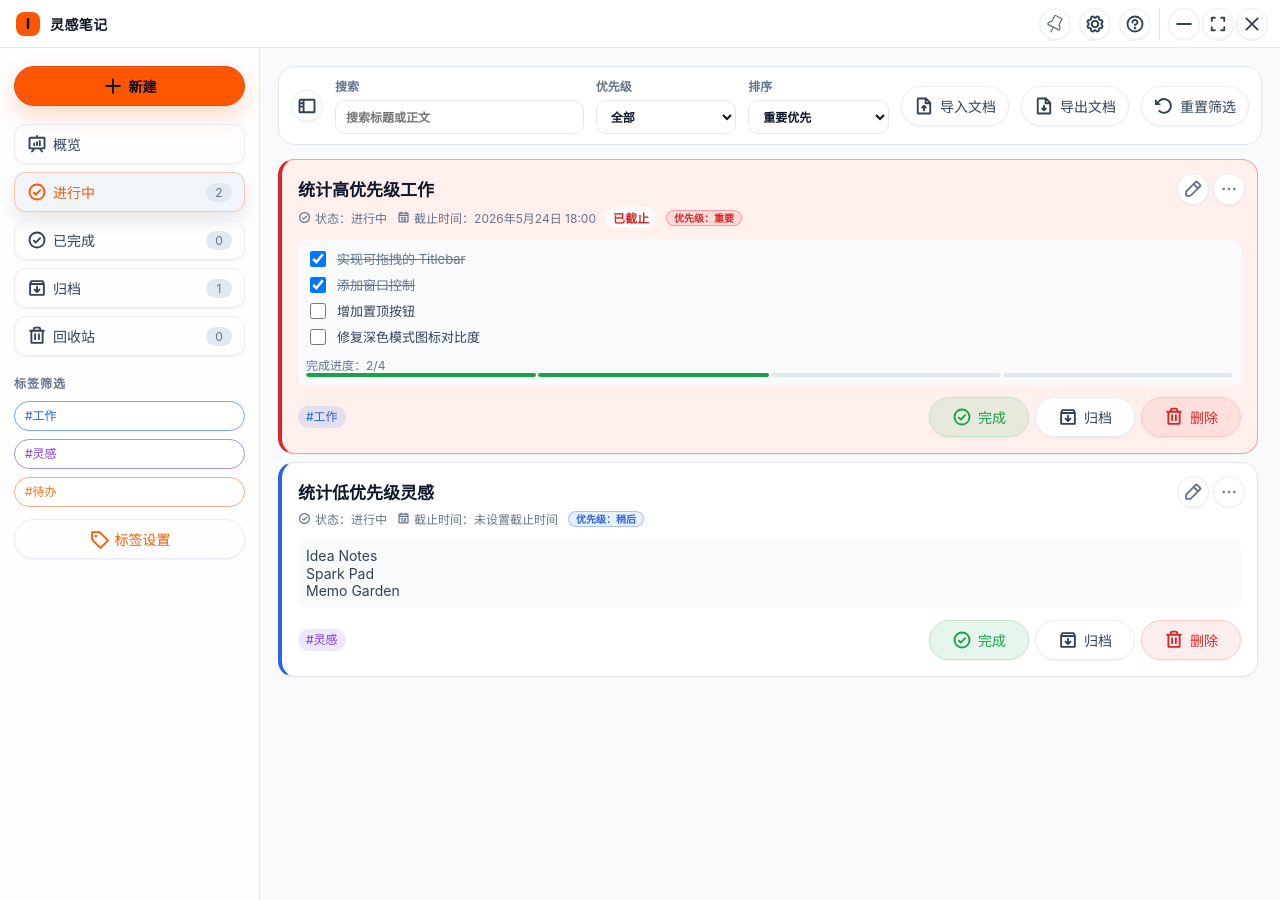
Test case: App overview › 概览统计项可点击反向筛选到对应列表
Click the button "概览" at [130, 144], box [14,124,245,164]
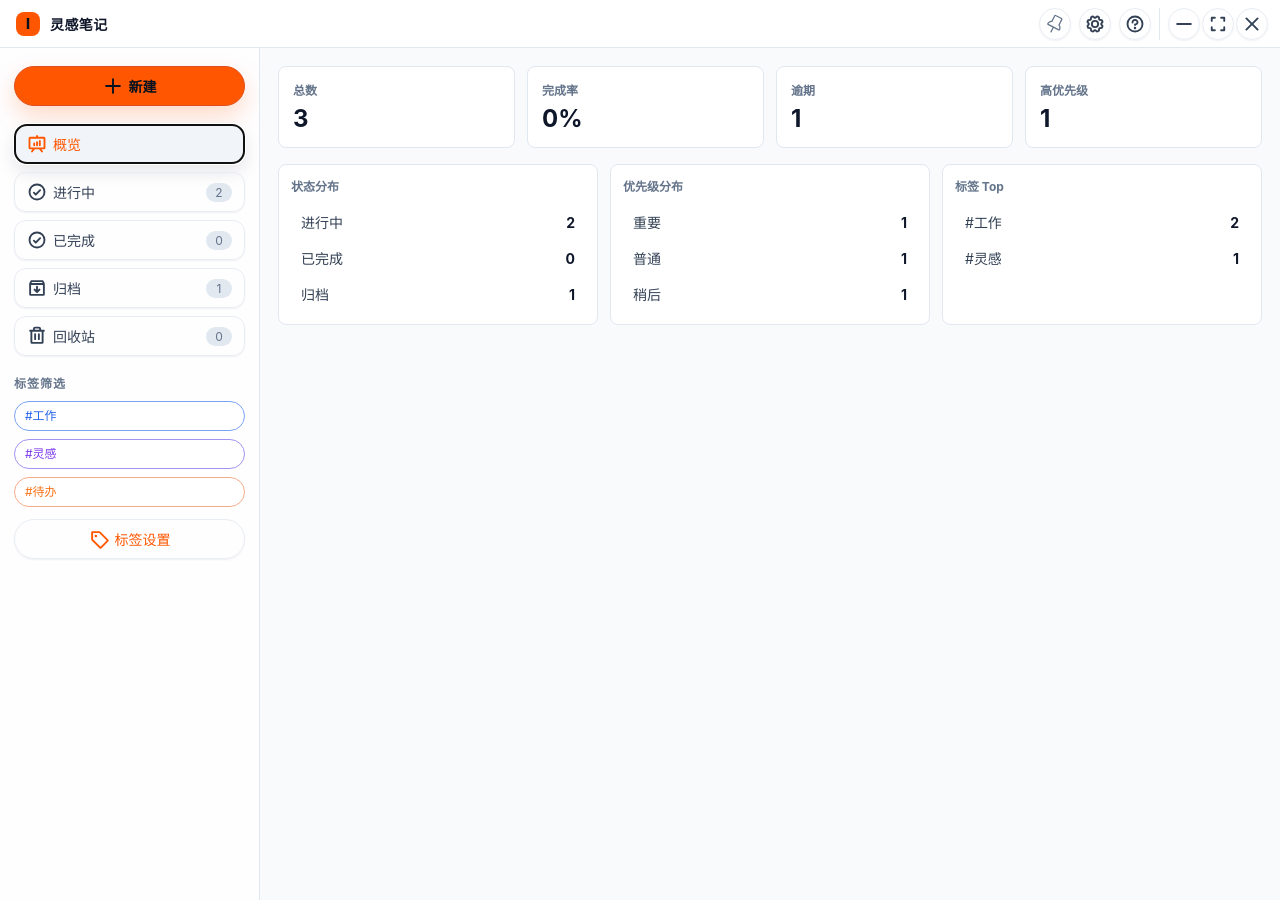
Click the button "归档 1" below "状态分布" at [315, 294], box [291,276,585,312]
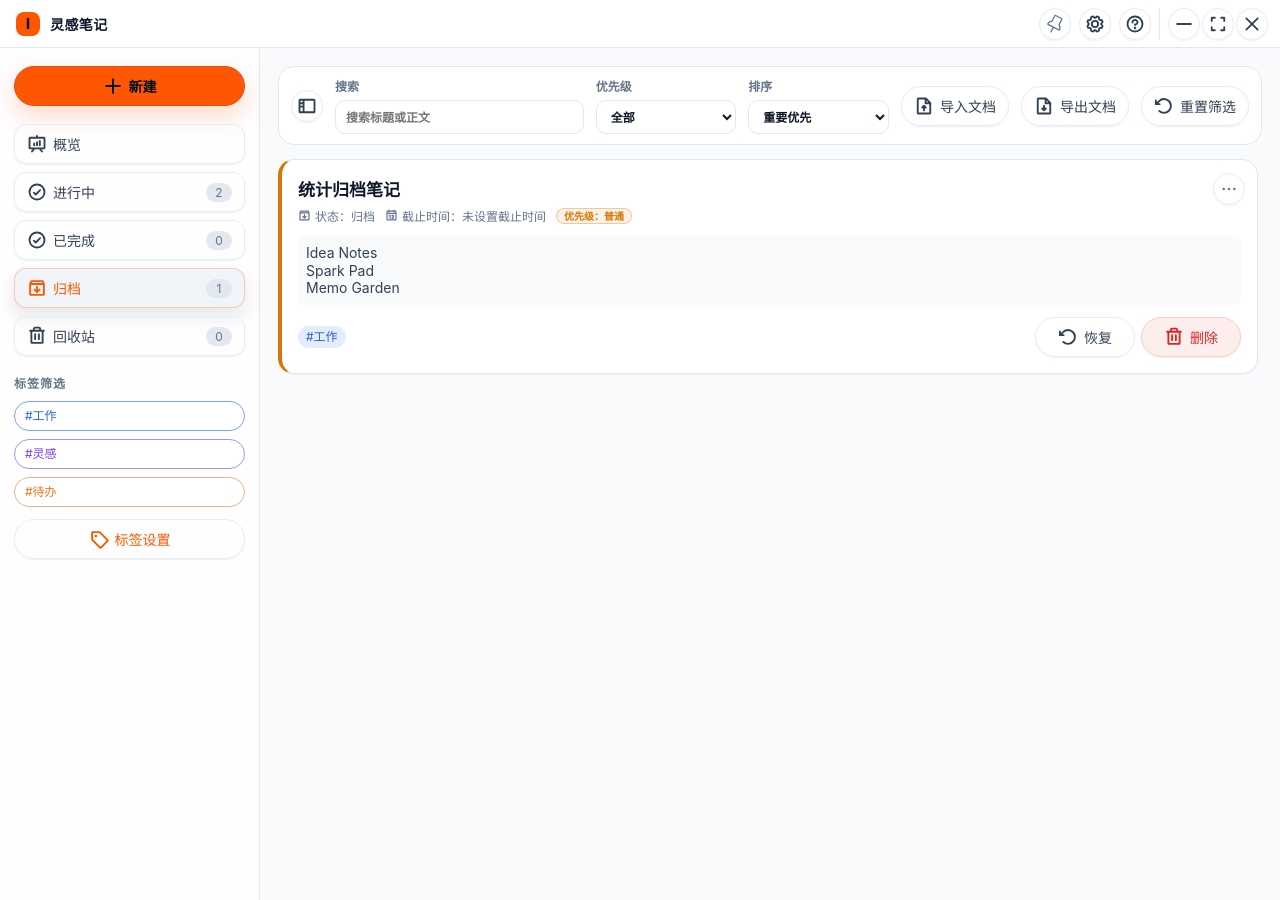
Expected: the button "统计高优先级工作" is not shown
Now the heading "统计归档笔记" is shown, box [298,180,400,200]
Click the button "概览" at [130, 144], box [14,124,245,164]
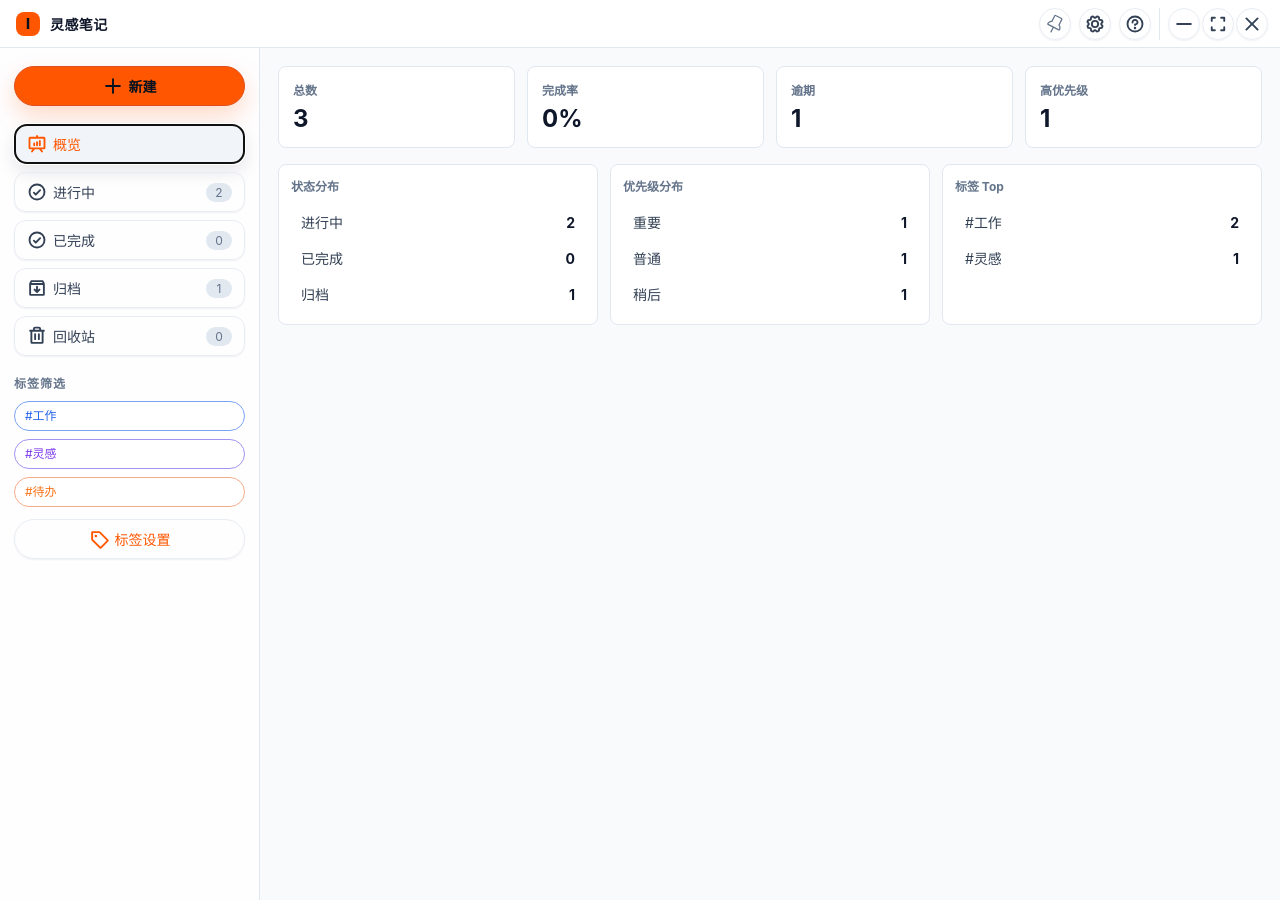
Click the button "重要 1" at [647, 222], box [623,204,917,240]
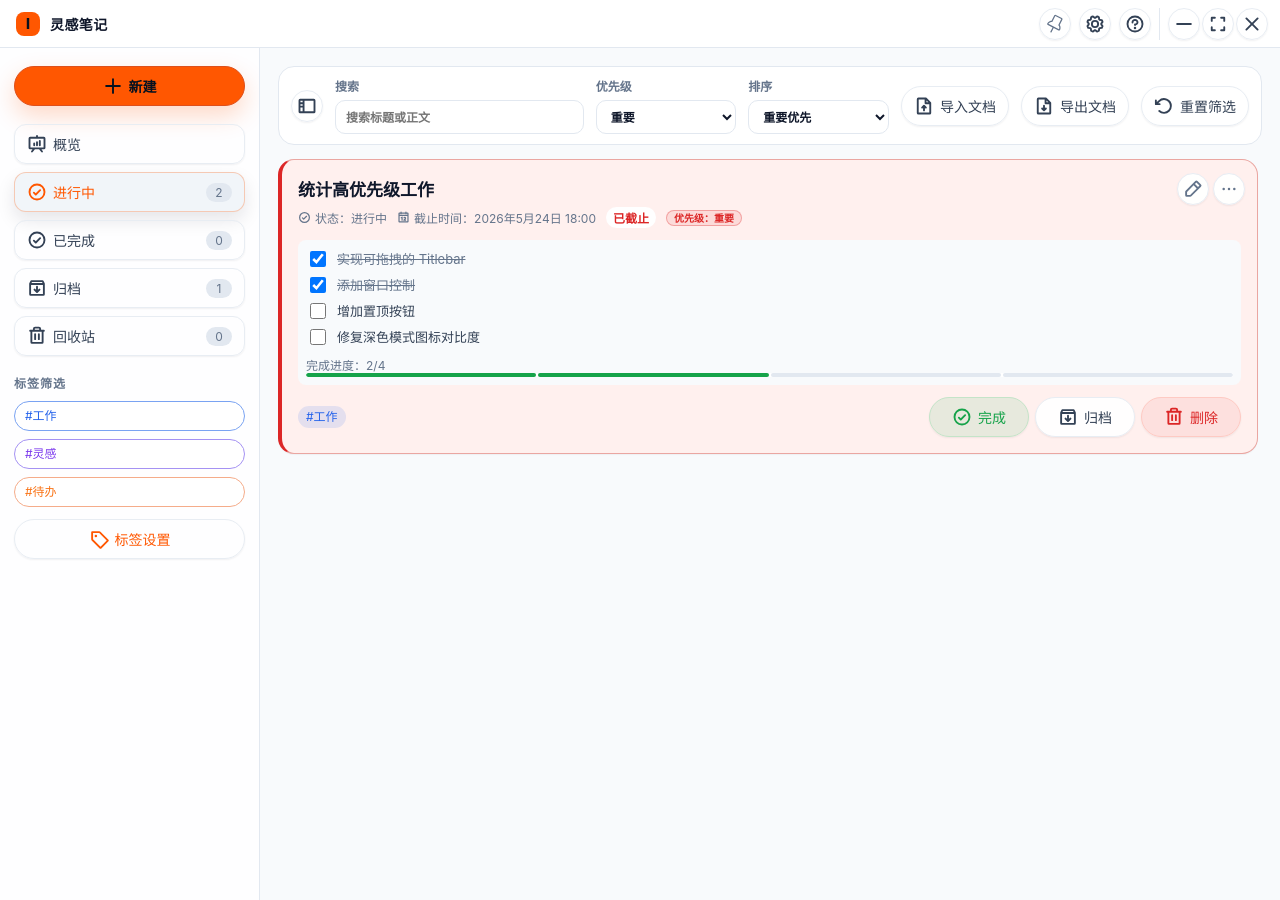
Expected: the button "统计低优先级灵感" is not shown
Now the button "统计高优先级工作" is shown, box [298,176,1181,201]
Click the button "概览" at [130, 144], box [14,124,245,164]
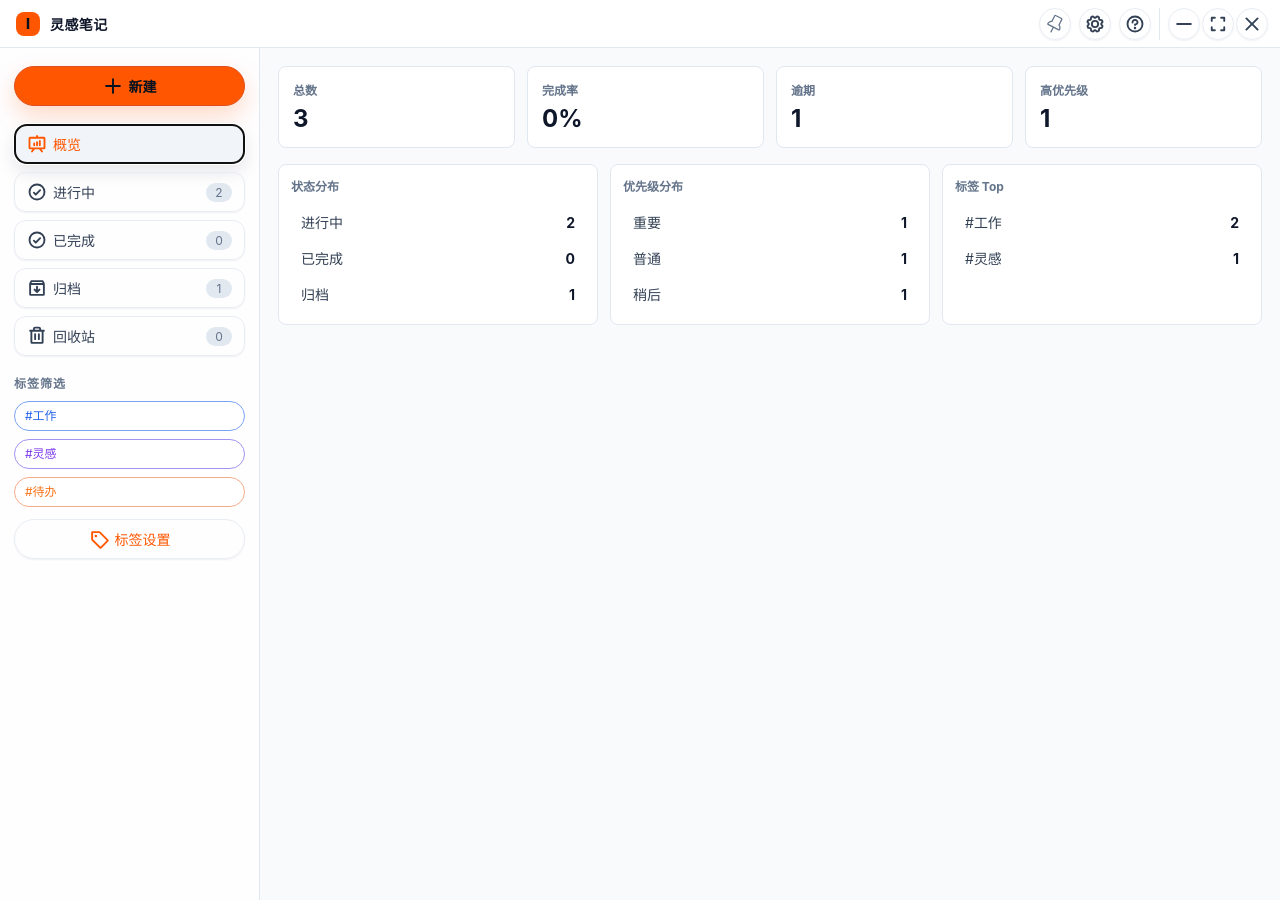
Click the button "#灵感 1" at [969, 258], box [955,240,1249,276]
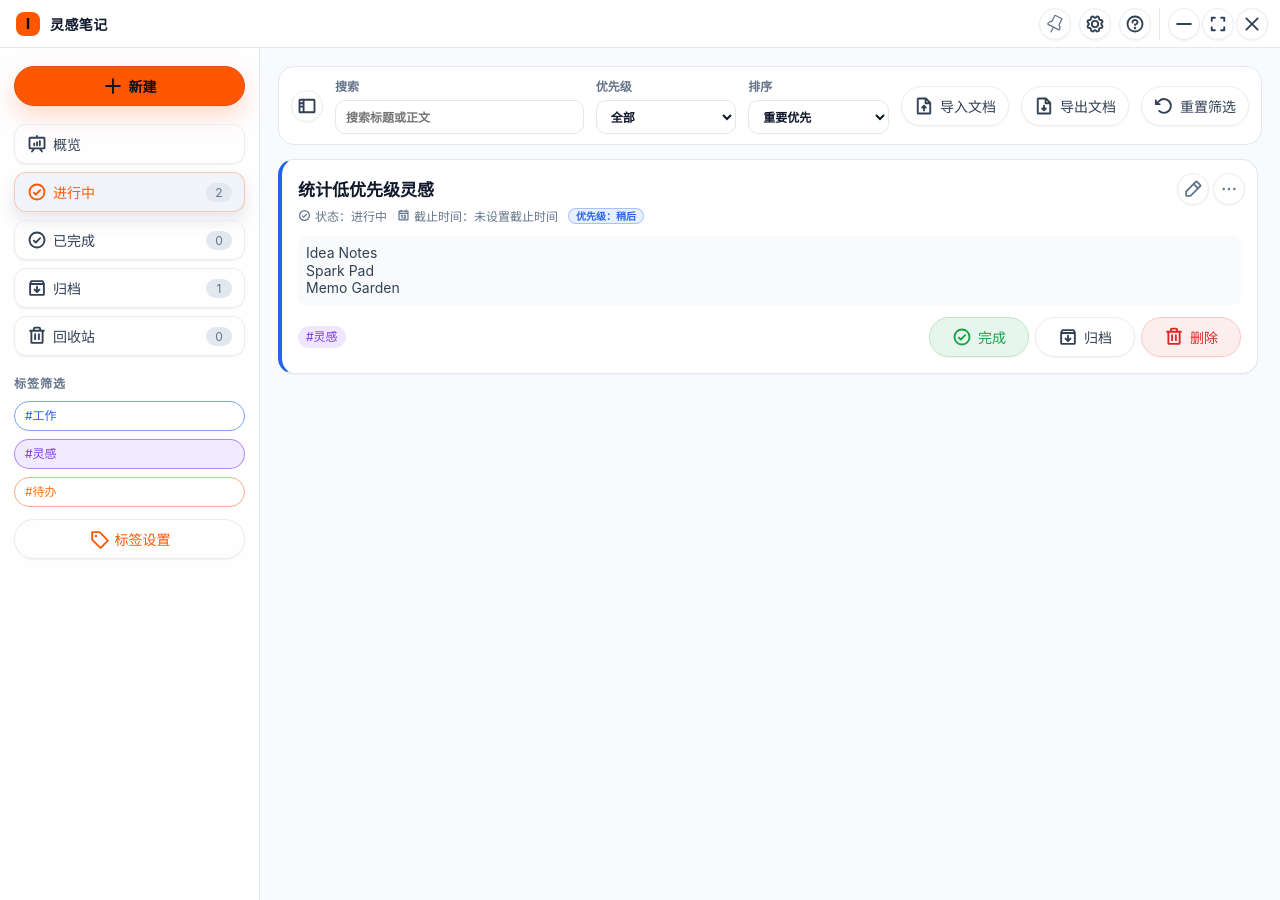
Expected: the button "统计高优先级工作" is not shown
Now the button "统计低优先级灵感" is shown, box [298,176,1181,201]
